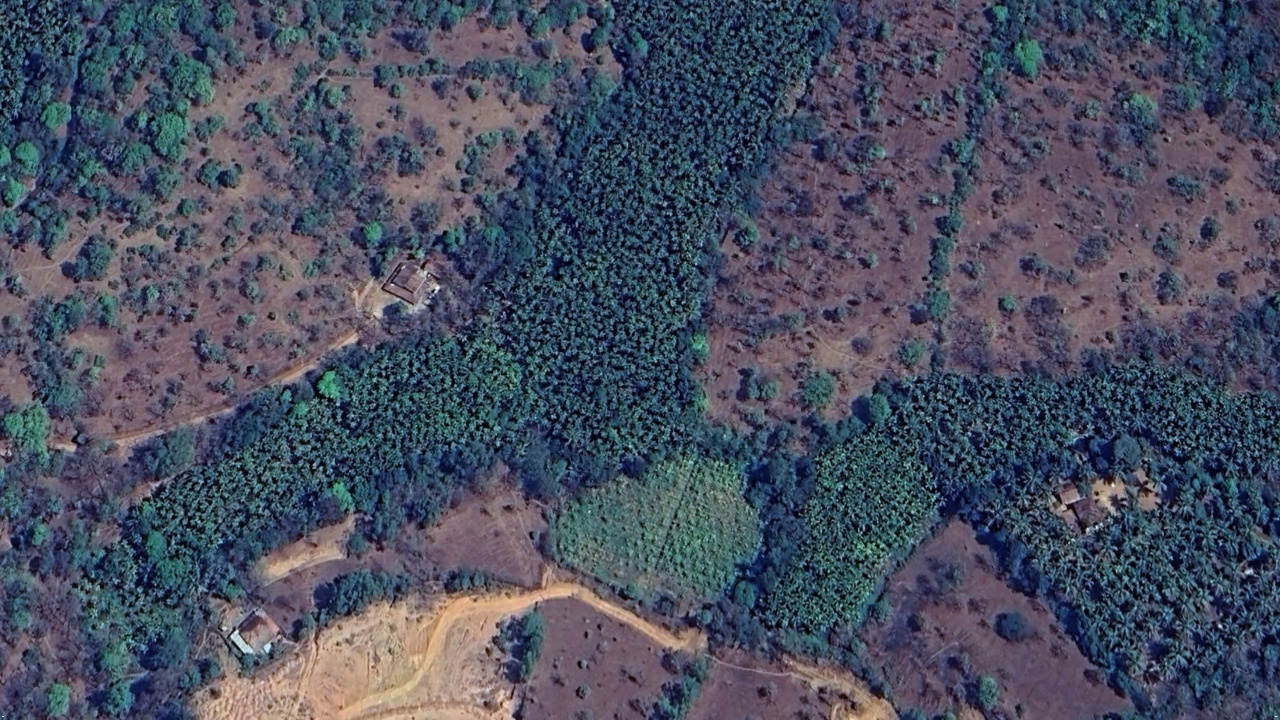arecanut: (105, 9, 824, 542), (772, 375, 1262, 647)
